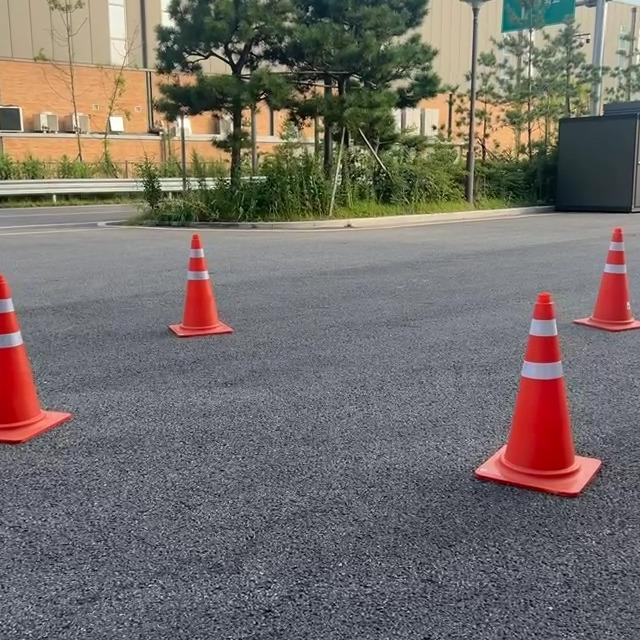fallen_object: (433, 285, 592, 534), (152, 169, 245, 353), (0, 257, 61, 451), (589, 223, 640, 367)
